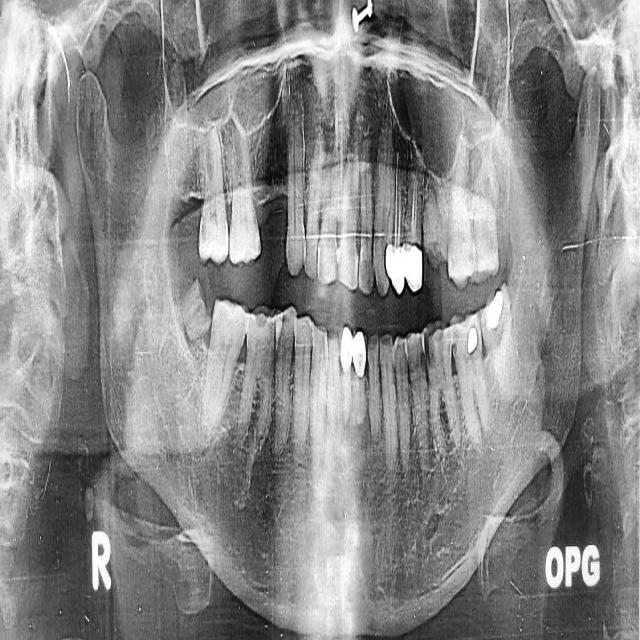karies: (384, 242, 424, 298), (482, 285, 509, 333), (194, 280, 217, 325), (423, 236, 447, 276), (464, 320, 478, 357)
